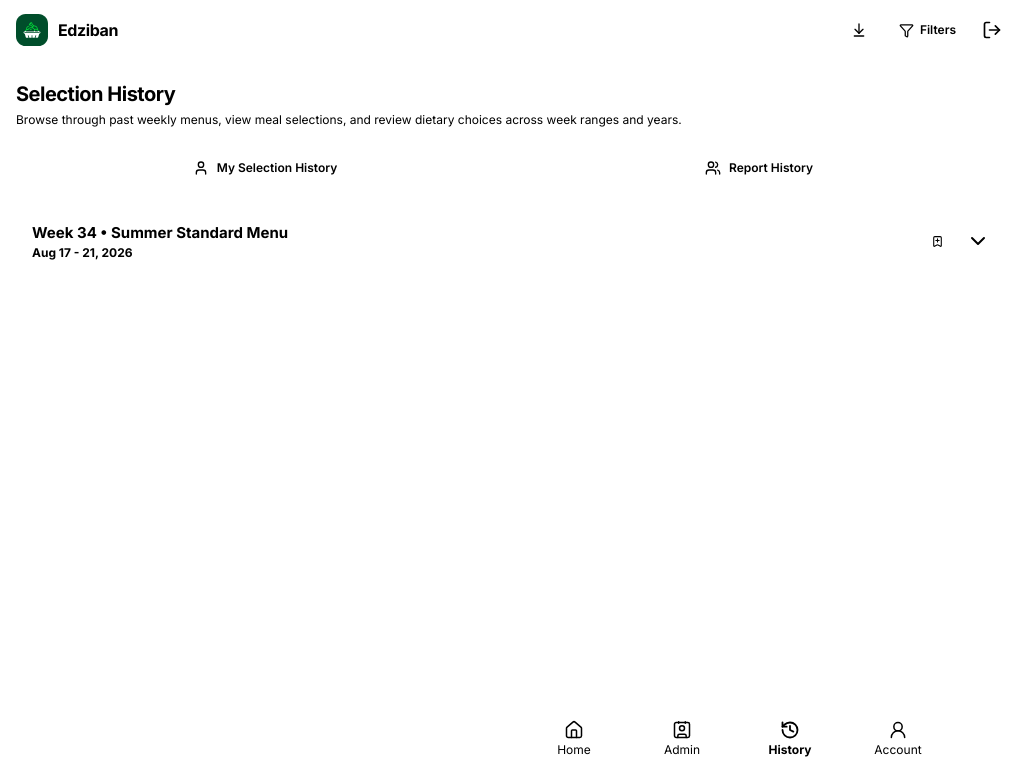
Test: History Page Component › switches between My Selection History and Admin Report History tabs with descriptive week date ranges
Click the button "Report History". click: (759, 168)
box: top-left (514, 152), bottom-right (1004, 184)
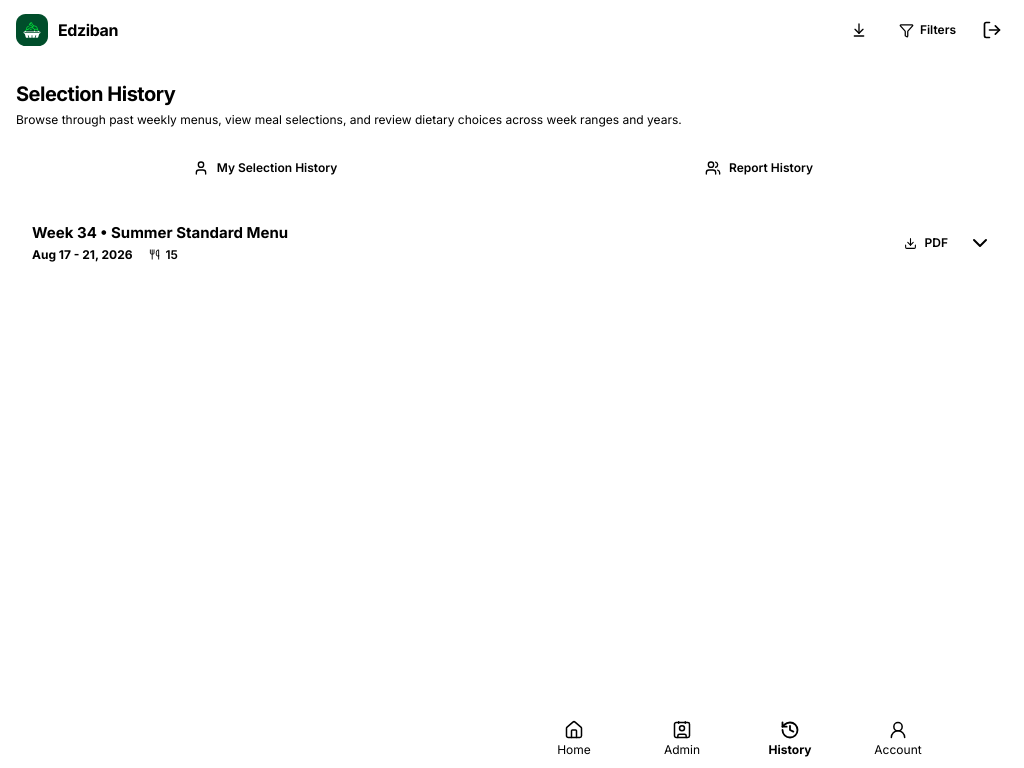
Expected: the text "Week 34 • Summer Standard Menu" is shown, top-left (32, 222), bottom-right (288, 264)
Now the text "15" is shown
# Click header to expand
Click the text "15". click: (172, 254)
box: top-left (166, 246), bottom-right (178, 262)
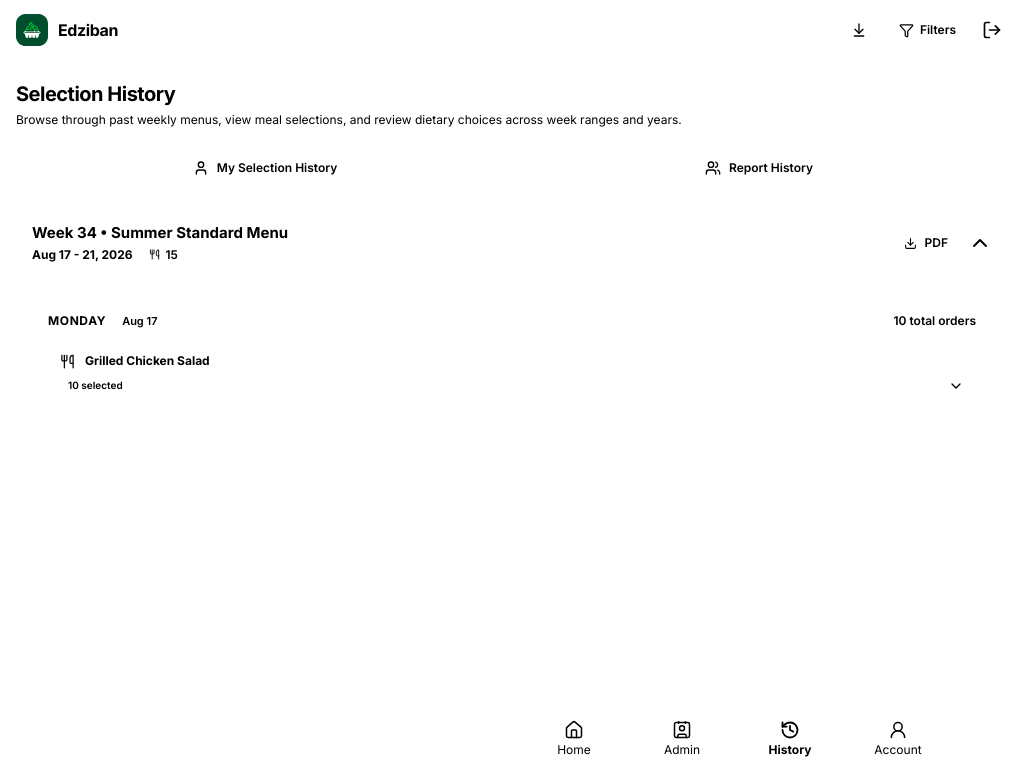
Now the text "10 total orders" is shown, box top-left (894, 313), bottom-right (976, 329)
Now the text "Aug 17" is shown, box top-left (122, 314), bottom-right (158, 328)
